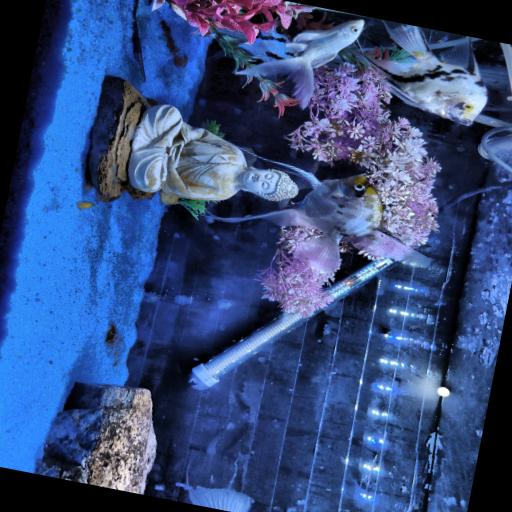Fish: (218, 163, 427, 271), (369, 24, 486, 124), (235, 19, 363, 108), (238, 23, 296, 61), (189, 487, 249, 511), (144, 291, 158, 301), (77, 201, 93, 208)
